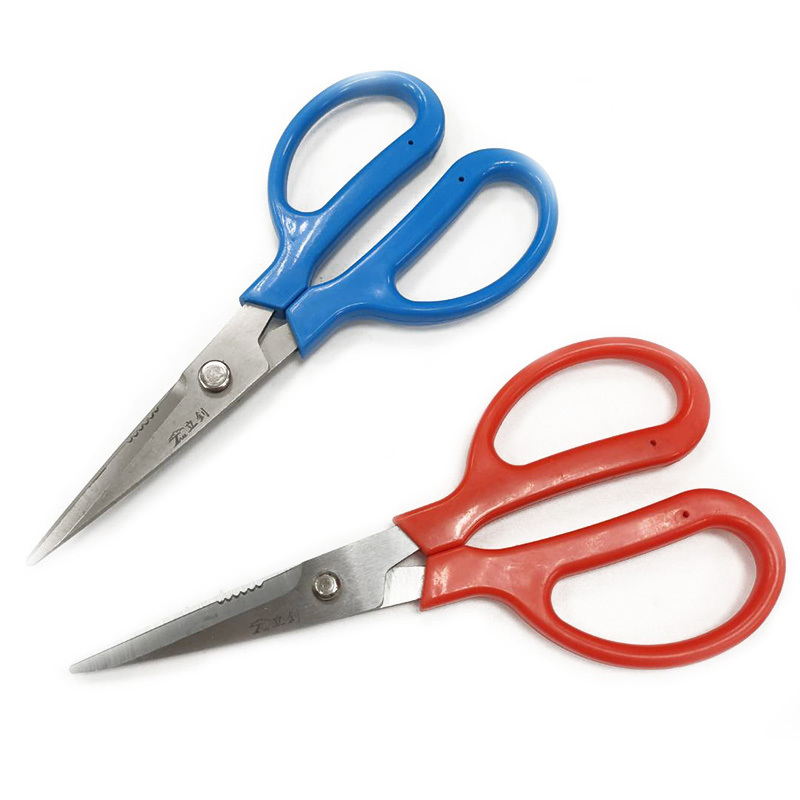scissors: (23, 67, 562, 566), (66, 335, 788, 685)
